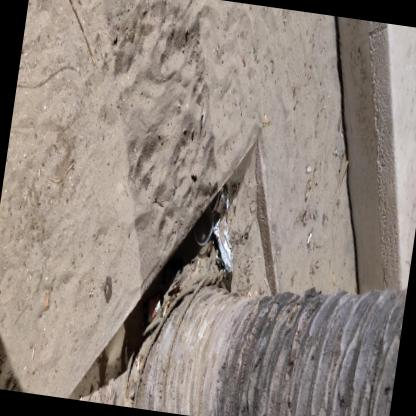Paper: (305, 233, 310, 246), (162, 305, 166, 317), (262, 113, 266, 122)
Plastic: (211, 187, 232, 274), (144, 281, 178, 322), (192, 205, 212, 245)
Waste: (334, 148, 336, 154)
